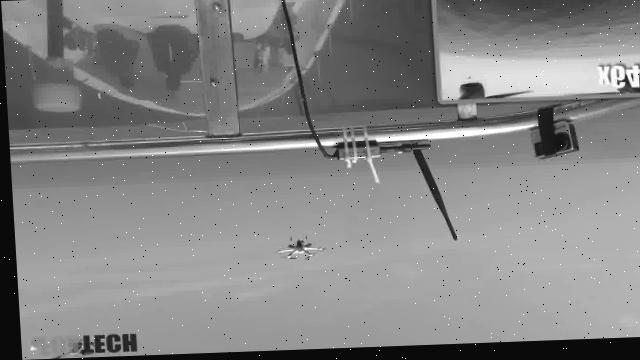drone: (264, 234, 330, 266)
